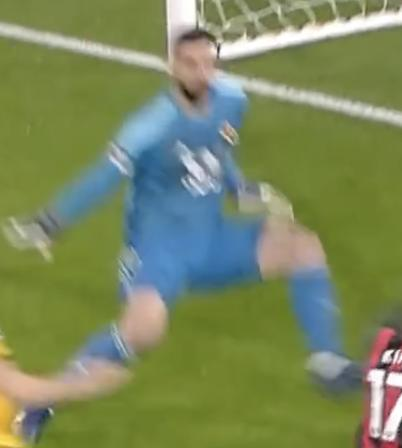goalkeeper: (8, 17, 381, 430)
